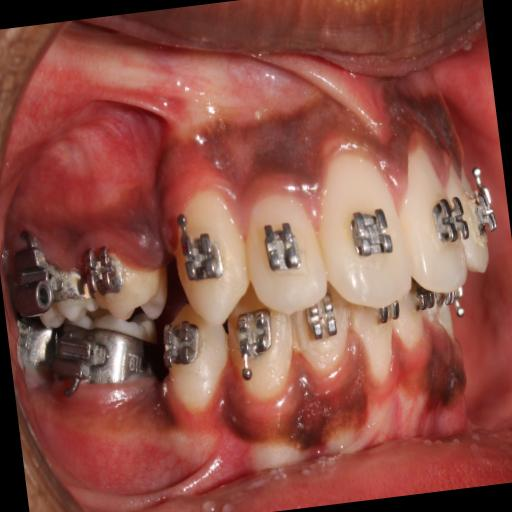correct_brace: (86, 236, 172, 338), (347, 192, 396, 272), (172, 220, 228, 288), (258, 208, 308, 278), (424, 181, 474, 249)
incorrect_brace: (238, 179, 330, 322), (82, 234, 130, 304)
